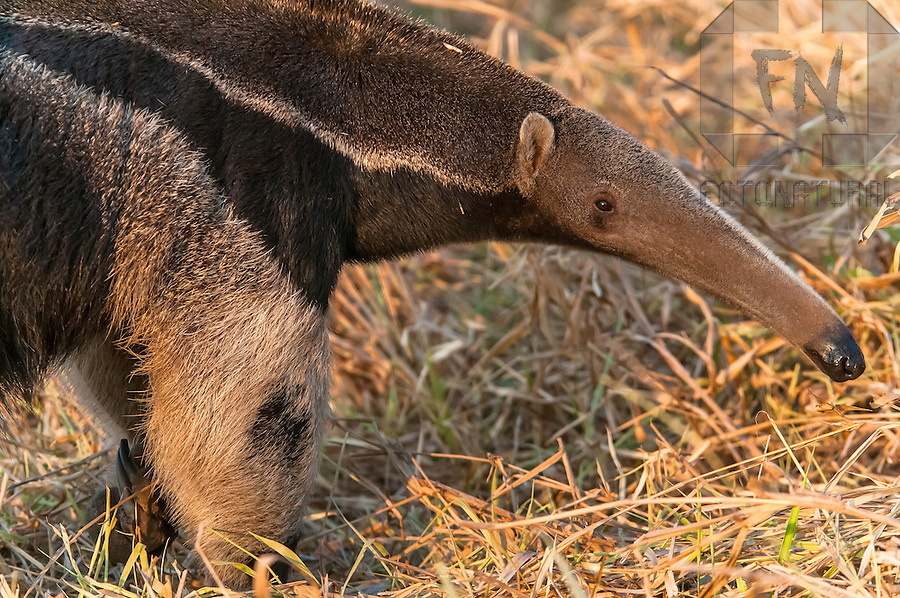TamanduaBandeira: (8, 3, 875, 558)
